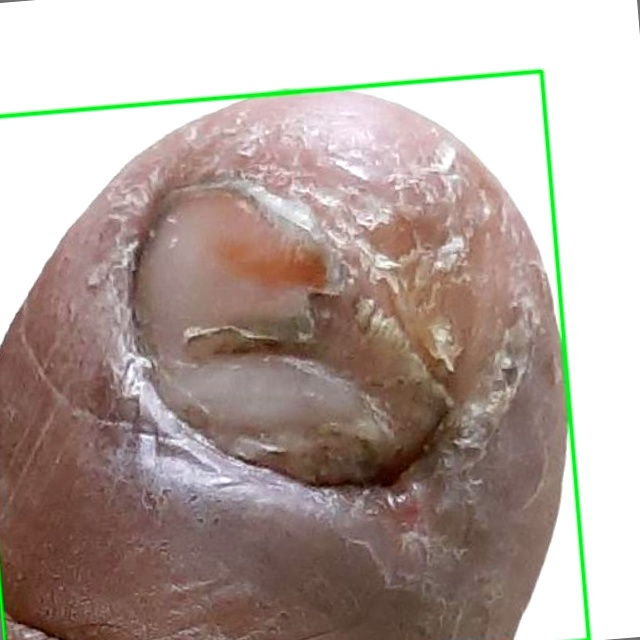Contact Dermatitis: (0, 71, 589, 639)
